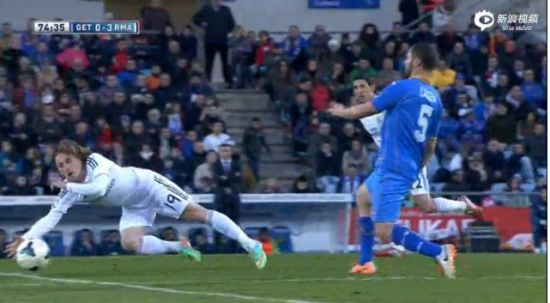10+: (1, 9, 547, 284)
down: (14, 132, 286, 288)
